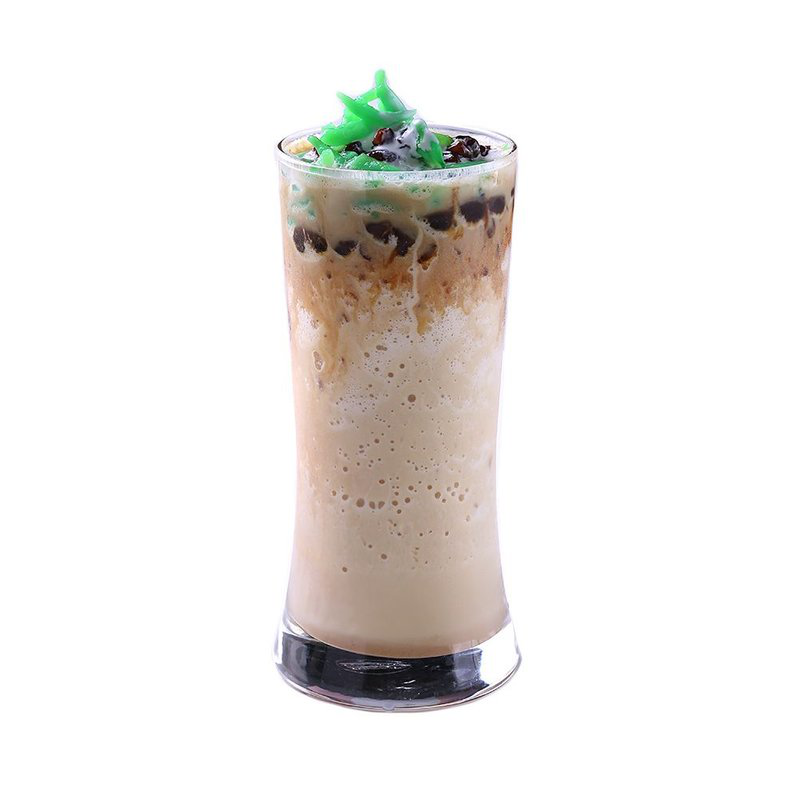Chendol: (252, 77, 556, 311)
